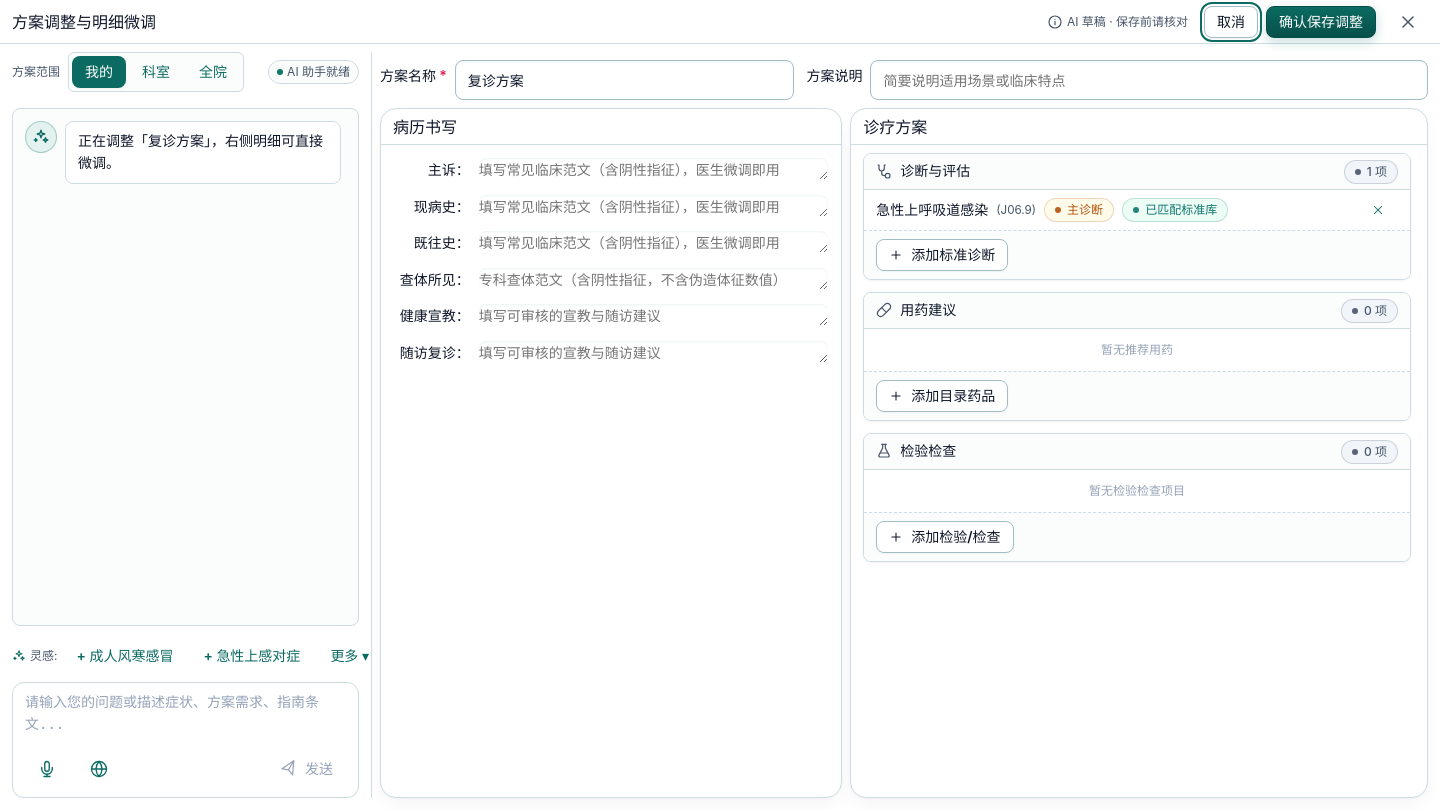
Scenario: AI plan catalog search workflow › keeps service query failures visible and supports a retry
This screenshot has width=1440, height=810.
Click the button "添加检验/检查". click: (945, 537)
box: [876,521,1014,553]
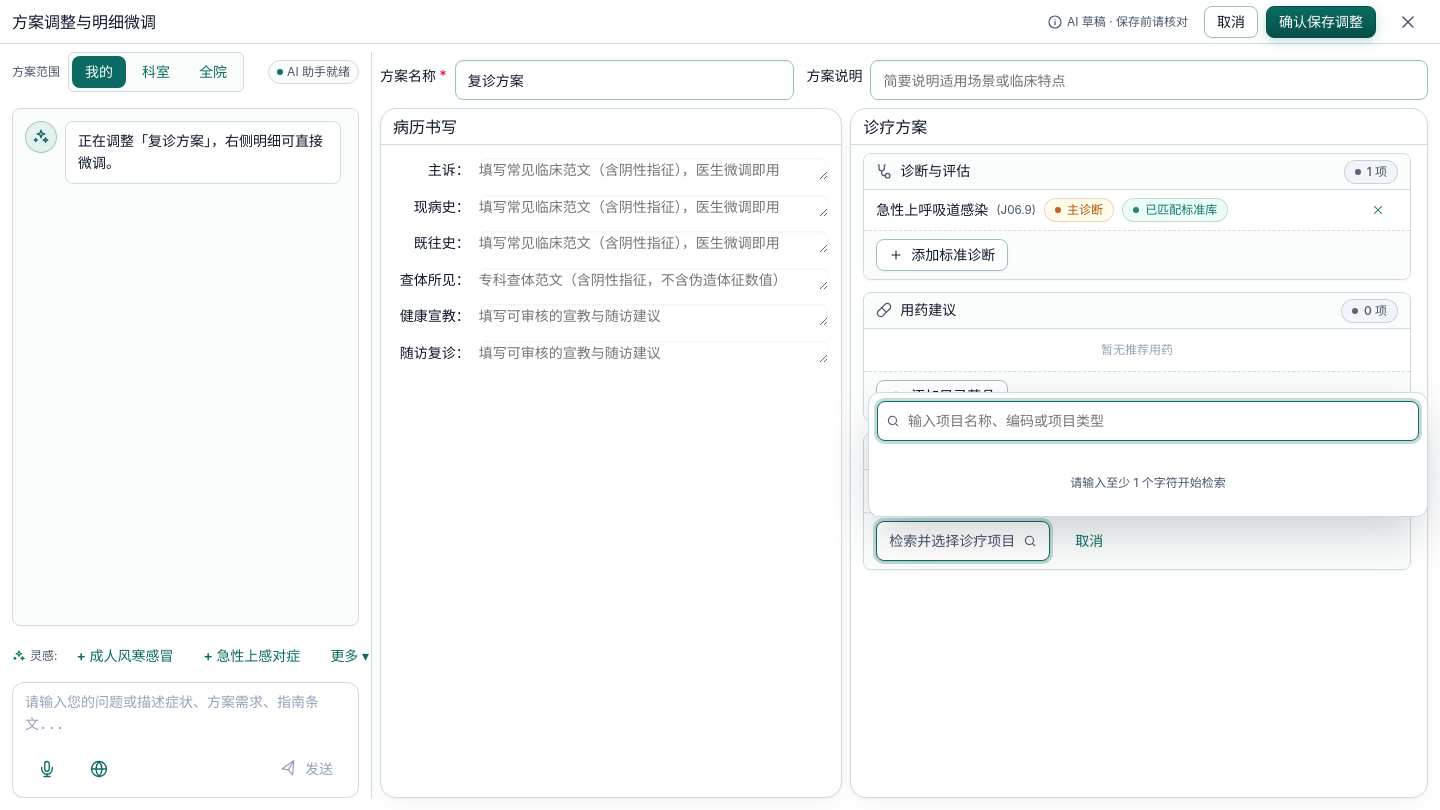
Type "目标" into the field with placeholder "输入项目名称、编码或项目类型". click: (1159, 421)
box: [908,405,1410,437]
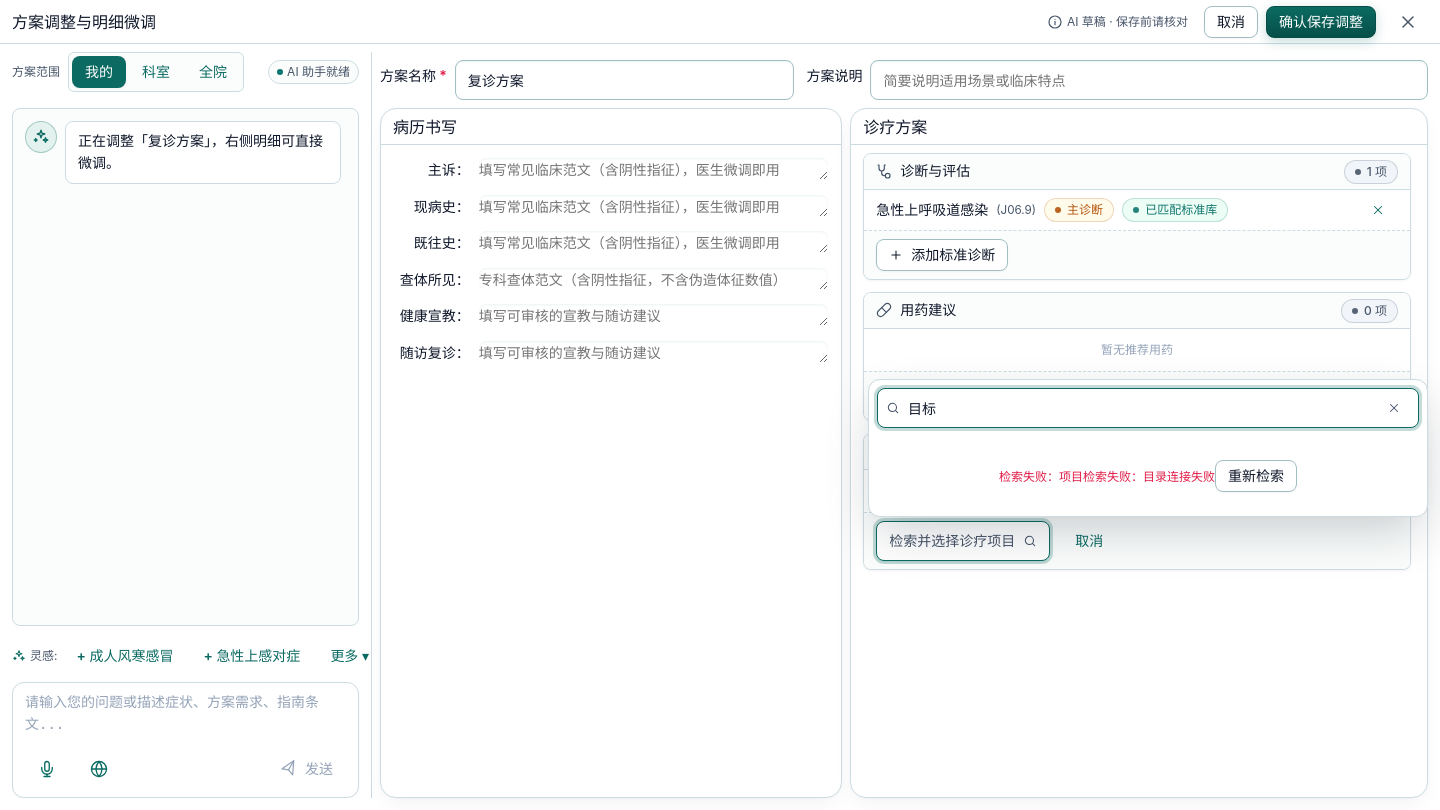
Expected: the message shows "目录连接失败", [999,469,1215,484]
Click the button "重新检索". click: (1256, 476)
box: [1215,460,1297,492]
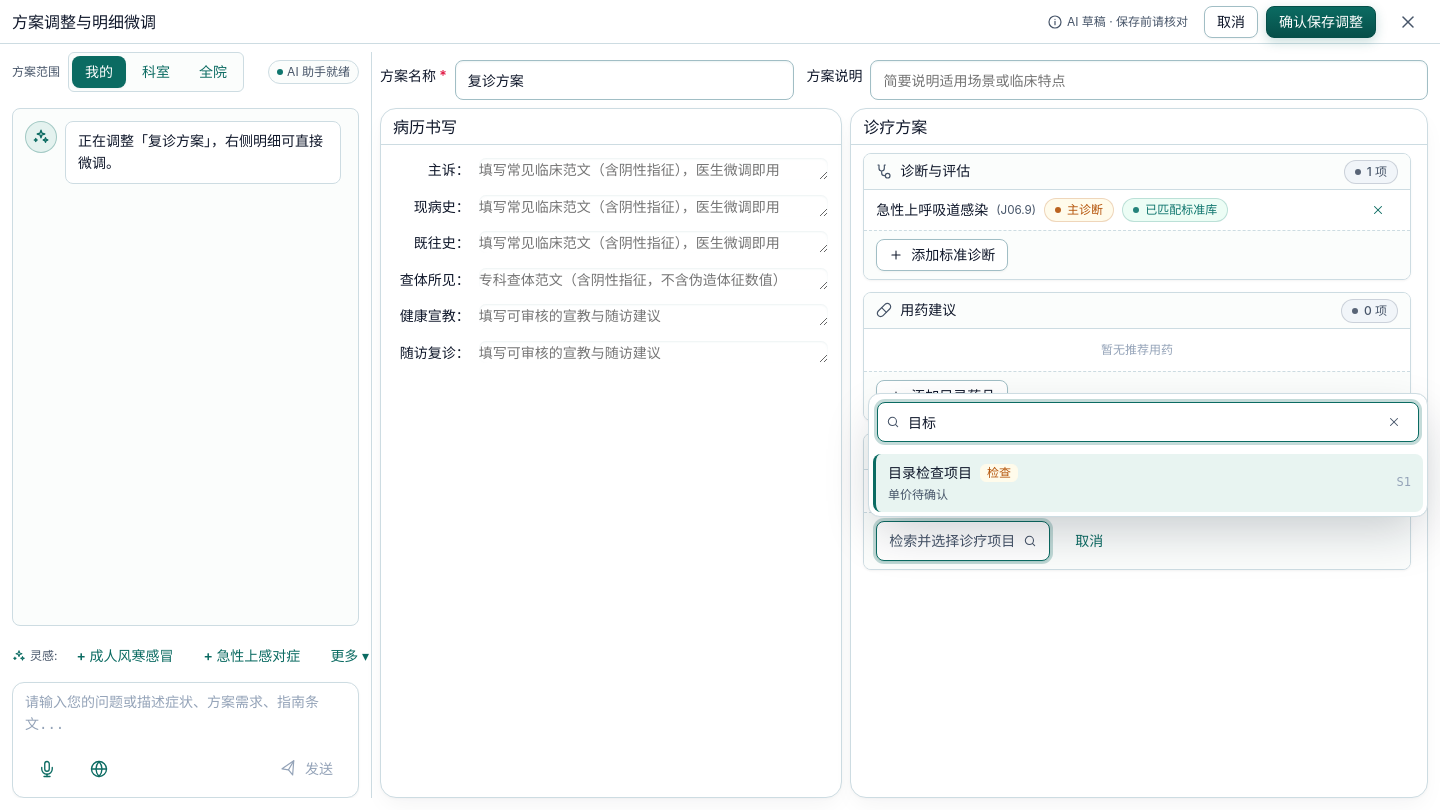
Expected: the option "目录检查项目 检查 单价待确认 S1" is shown, [873,454,1423,512]
